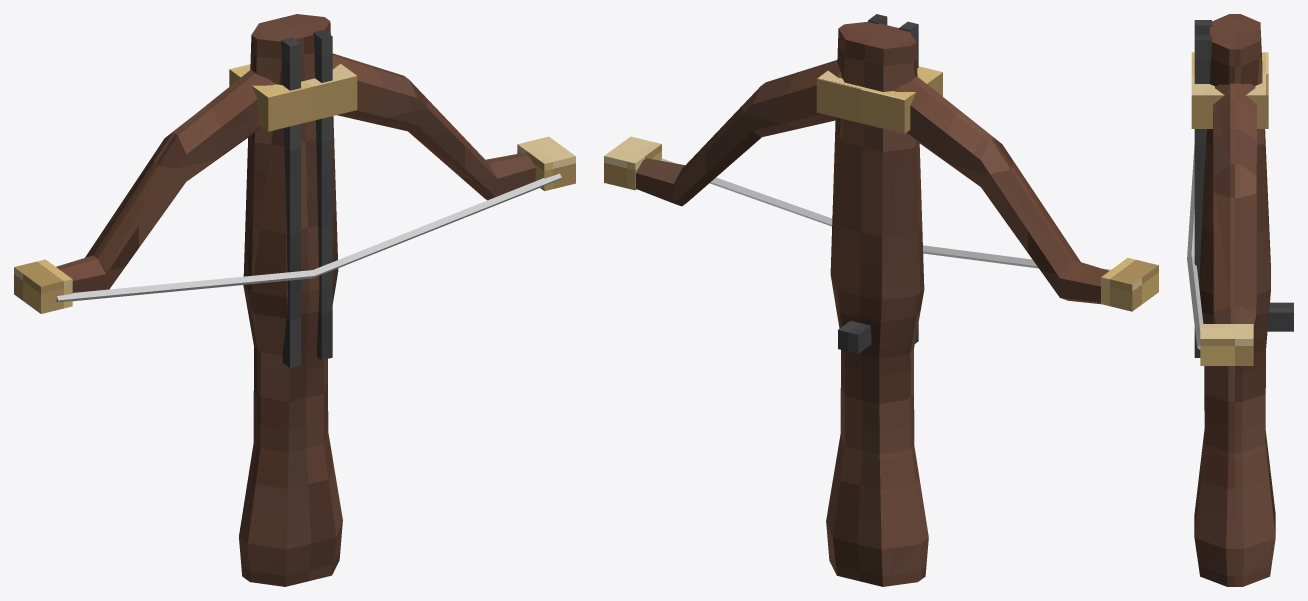
Rendered from cutout.obj.
3 renders of one model, left to right at view 1: azimuth 30°, elevation 25°; view 2: azimuth 150°, elevation 25°; view 3: azimuth 270°, elevation 25°, orthographic.
Bounding box in the file's own units: 1.23 × 1.19 × 0.2157.
